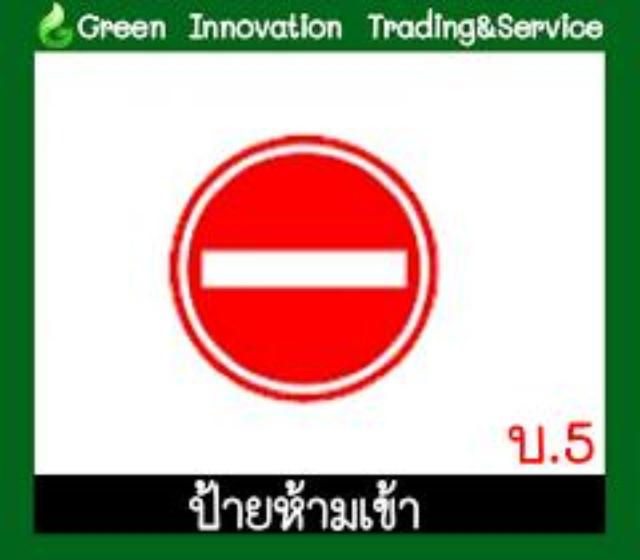B2: (166, 128, 440, 402)
